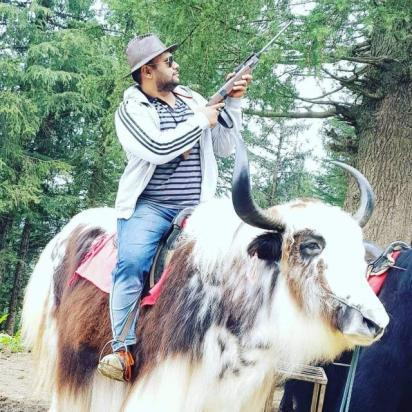Gun: (178, 18, 295, 162)
